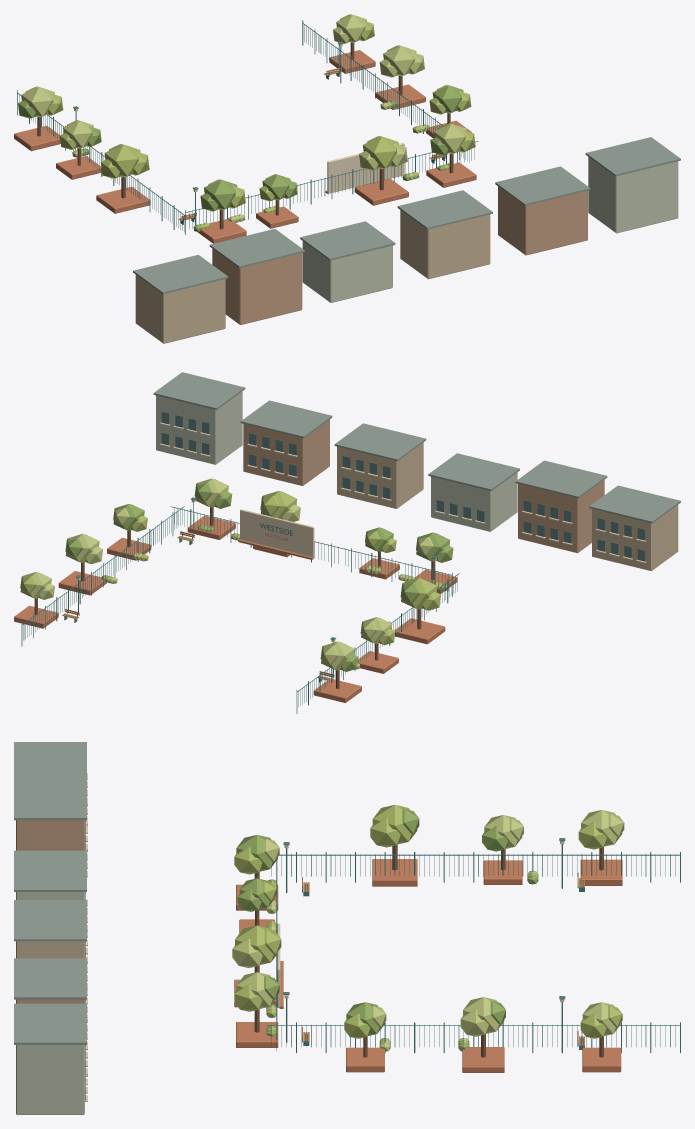
The model's file is westside.glb.
3 views of the same model, one above another, from view 1: azimuth 30°, elevation 25°; view 2: azimuth 150°, elevation 25°; view 3: azimuth 270°, elevation 25° (orthographic). The views are drawn at different scales.
Visible parts, largest first — view 1: roof trim, planter, neighborhood apartment.005, neighborhood apartment.001, faceted canopy, neighborhood apartment.003, neighborhood apartment, fence post, neighborhood apartment.004, faceted canopy.002, neighborhood apartment.002, faceted canopy.001 (+2 smaller); view 2: roof trim, planter, fence post, window, neighborhood apartment.005, faceted canopy, neighborhood apartment.001, neighborhood apartment, neighborhood apartment.004, neighborhood apartment.003, window sill, neighborhood apartment.002 (+3 smaller); view 3: roof trim, planter, fence post, faceted canopy.002, faceted canopy, neighborhood apartment.005, faceted canopy.001, neighborhood apartment.001, neighborhood apartment.003, tree trunk, window sill.
Boxes of the visible parts, x1,y1,x2,y2 form: roof trim: (133,137,680,293); planter: (14,50,476,243); neighborhood apartment.005: (588,157,678,233); neighborhood apartment.001: (212,249,302,324); faceted canopy: (21,15,466,222); neighborhood apartment.003: (400,210,490,279); neighborhood apartment: (135,275,225,343); fence post: (17,20,478,234); neighborhood apartment.004: (498,186,587,255); faceted canopy.002: (47,14,475,229); neighborhood apartment.002: (302,241,392,302); faceted canopy.001: (18,45,463,231); roof trim: (153,372,680,523); planter: (14,515,457,702); fence post: (21,497,459,713); window: (161,411,645,561); neighborhood apartment.005: (156,391,242,464); faceted canopy: (20,478,433,670); neighborhood apartment.001: (518,480,604,553); neighborhood apartment: (592,505,678,571); neighborhood apartment.004: (243,419,329,485); neighborhood apartment.003: (337,442,423,508); window sill: (160,422,646,563); neighborhood apartment.002: (431,472,517,531); roof trim: (14,742,86,1044); planter: (234,859,622,1072); fence post: (267,838,680,1053); faceted canopy.002: (234,805,622,1045); faceted canopy: (232,810,624,1051); neighborhood apartment.005: (16,1045,84,1114); faceted canopy.001: (236,809,538,1051); neighborhood apartment.001: (16,820,84,850); neighborhood apartment.003: (16,941,84,958); tree trunk: (254,844,603,1057); window sill: (85,773,280,1101).
Bounding box in the file's own units: 74.4 × 8.24 × 67.76.
